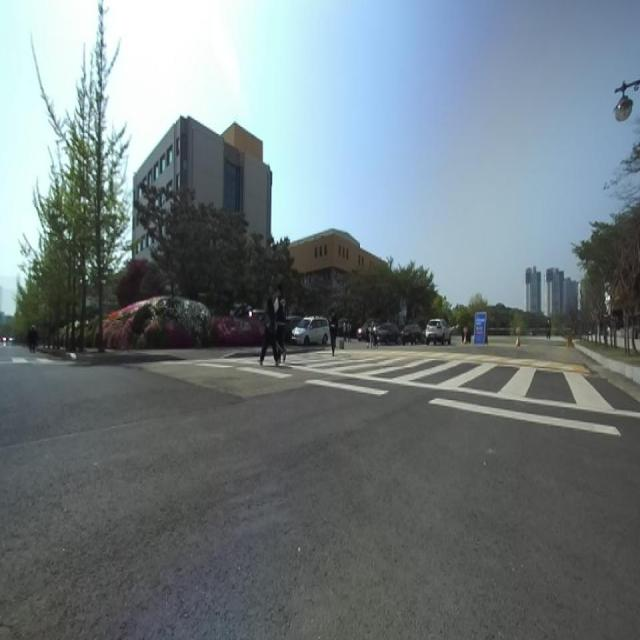sidewalk: (114, 348, 240, 358)
